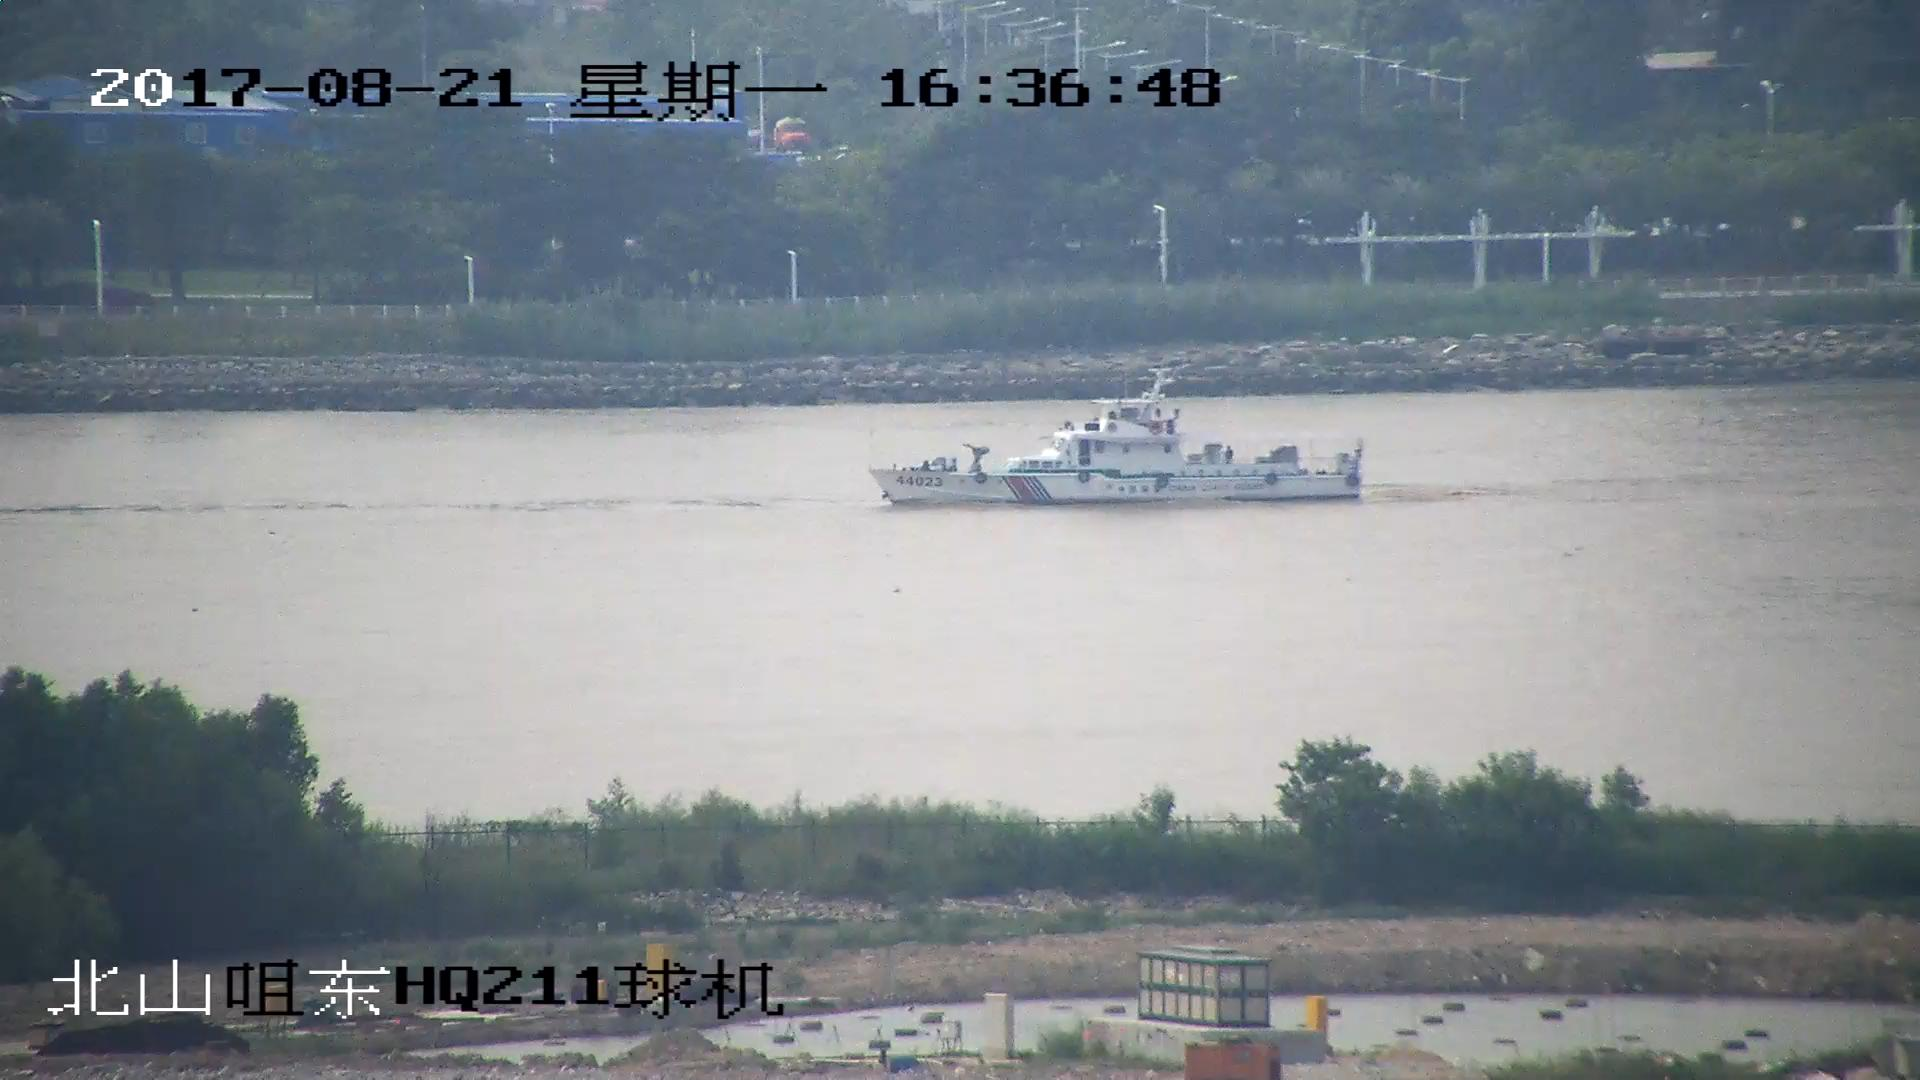passenger ship: (870, 369, 1364, 505)
